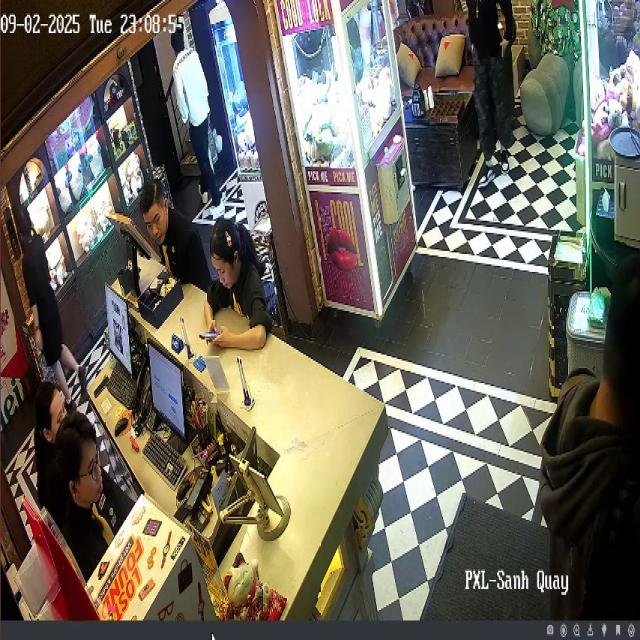khach: (536, 270, 640, 620), (170, 21, 224, 220), (462, 0, 517, 194)
nhan vien: (13, 197, 92, 408), (53, 406, 137, 577), (200, 207, 270, 358), (135, 179, 211, 311), (27, 370, 70, 486)
